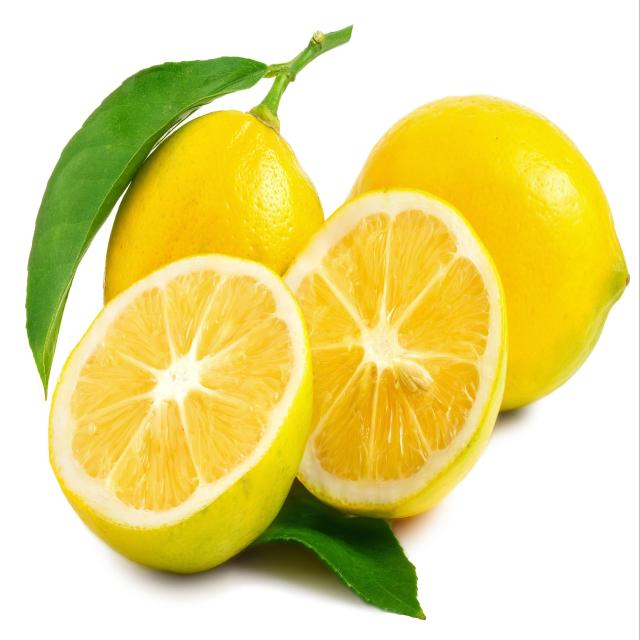lemon: (46, 244, 317, 579), (274, 182, 512, 520)
